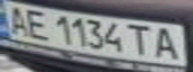1: (51, 12, 72, 45), (66, 15, 87, 47)
3: (84, 17, 106, 51)
4: (103, 19, 127, 54)
A: (148, 25, 184, 61), (3, 2, 30, 36)
E: (21, 7, 51, 39)
T: (124, 22, 154, 56)
